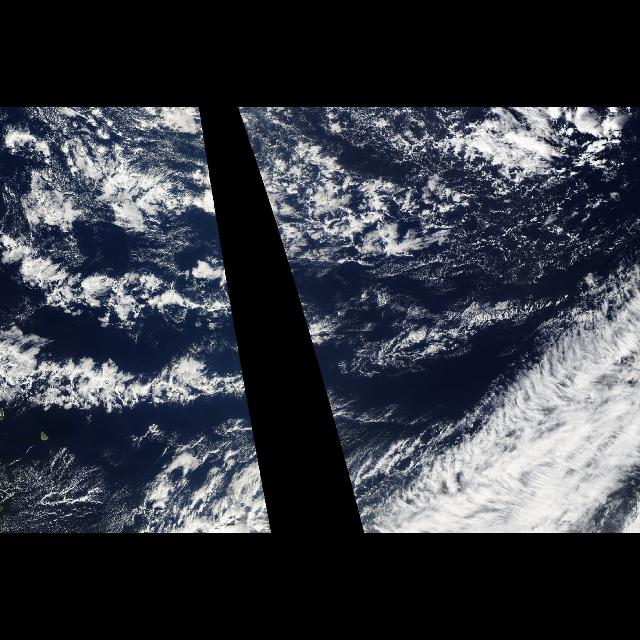Fish: (356, 277, 640, 533), (5, 317, 253, 427), (302, 318, 330, 414)
Gravel: (274, 137, 612, 286)
